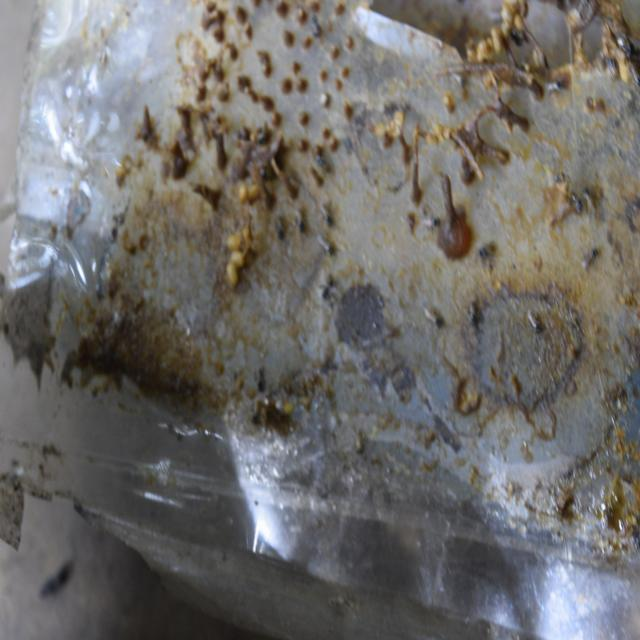honeybee: (577, 242, 602, 274), (254, 363, 272, 394), (478, 240, 501, 263), (249, 396, 265, 429), (527, 310, 546, 336), (320, 272, 334, 306), (424, 306, 445, 328), (617, 31, 632, 61), (323, 199, 337, 231), (584, 182, 600, 210), (254, 124, 270, 151), (545, 78, 567, 97), (601, 51, 619, 74), (571, 188, 586, 215), (296, 210, 310, 238), (319, 234, 336, 257), (452, 64, 468, 87), (423, 210, 442, 229), (468, 302, 481, 329), (310, 16, 323, 43), (509, 27, 522, 52), (316, 149, 330, 172), (256, 157, 270, 176)
